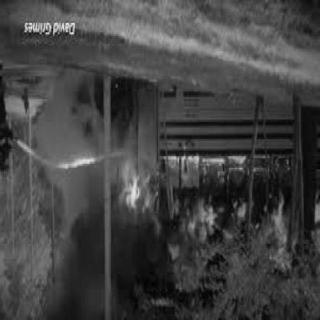Fire: (116, 148, 156, 244)
